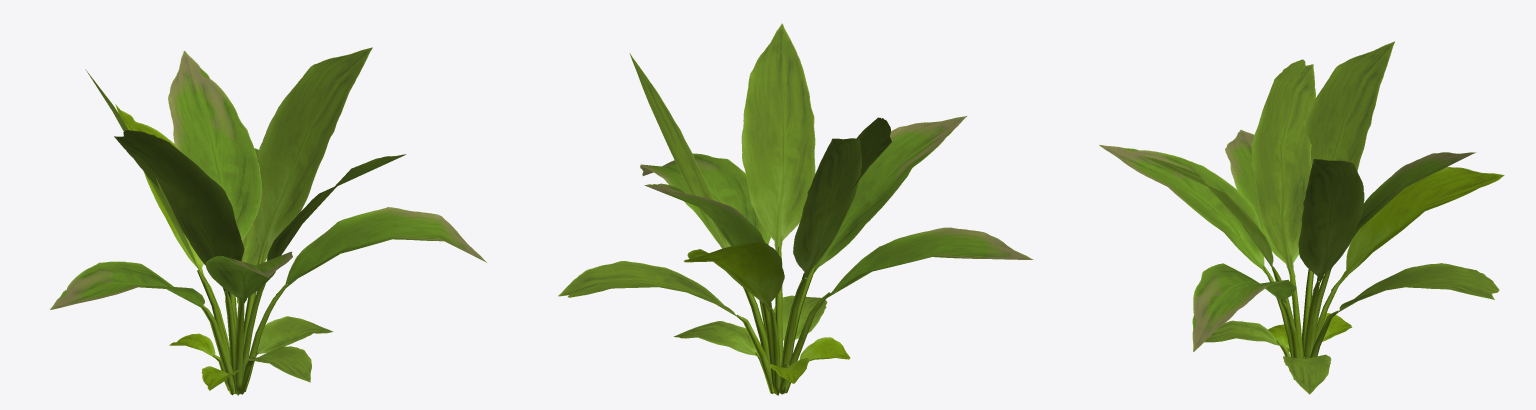
The model's file is EchinodorusBleheri.glb.
3 views of the same model, side by side, from view 1: azimuth 30°, elevation 25°; view 2: azimuth 150°, elevation 25°; view 3: azimuth 270°, elevation 25° (orthographic). The views are drawn at different scales.
Visible parts, largest first — view 1: Amazon_Sword_Plant__Realistic_LOD3; view 2: Amazon_Sword_Plant__Realistic_LOD3; view 3: Amazon_Sword_Plant__Realistic_LOD3.
Part boxes in pixels (box(x1,y1,x2,y2)): Amazon_Sword_Plant__Realistic_LOD3: box(49, 47, 486, 395); Amazon_Sword_Plant__Realistic_LOD3: box(558, 23, 1033, 395); Amazon_Sword_Plant__Realistic_LOD3: box(1099, 41, 1504, 394).
Bounding box in the file's own units: 1.4 × 0.9829 × 1.25.
Materials: 1 (1 with a texture image).
